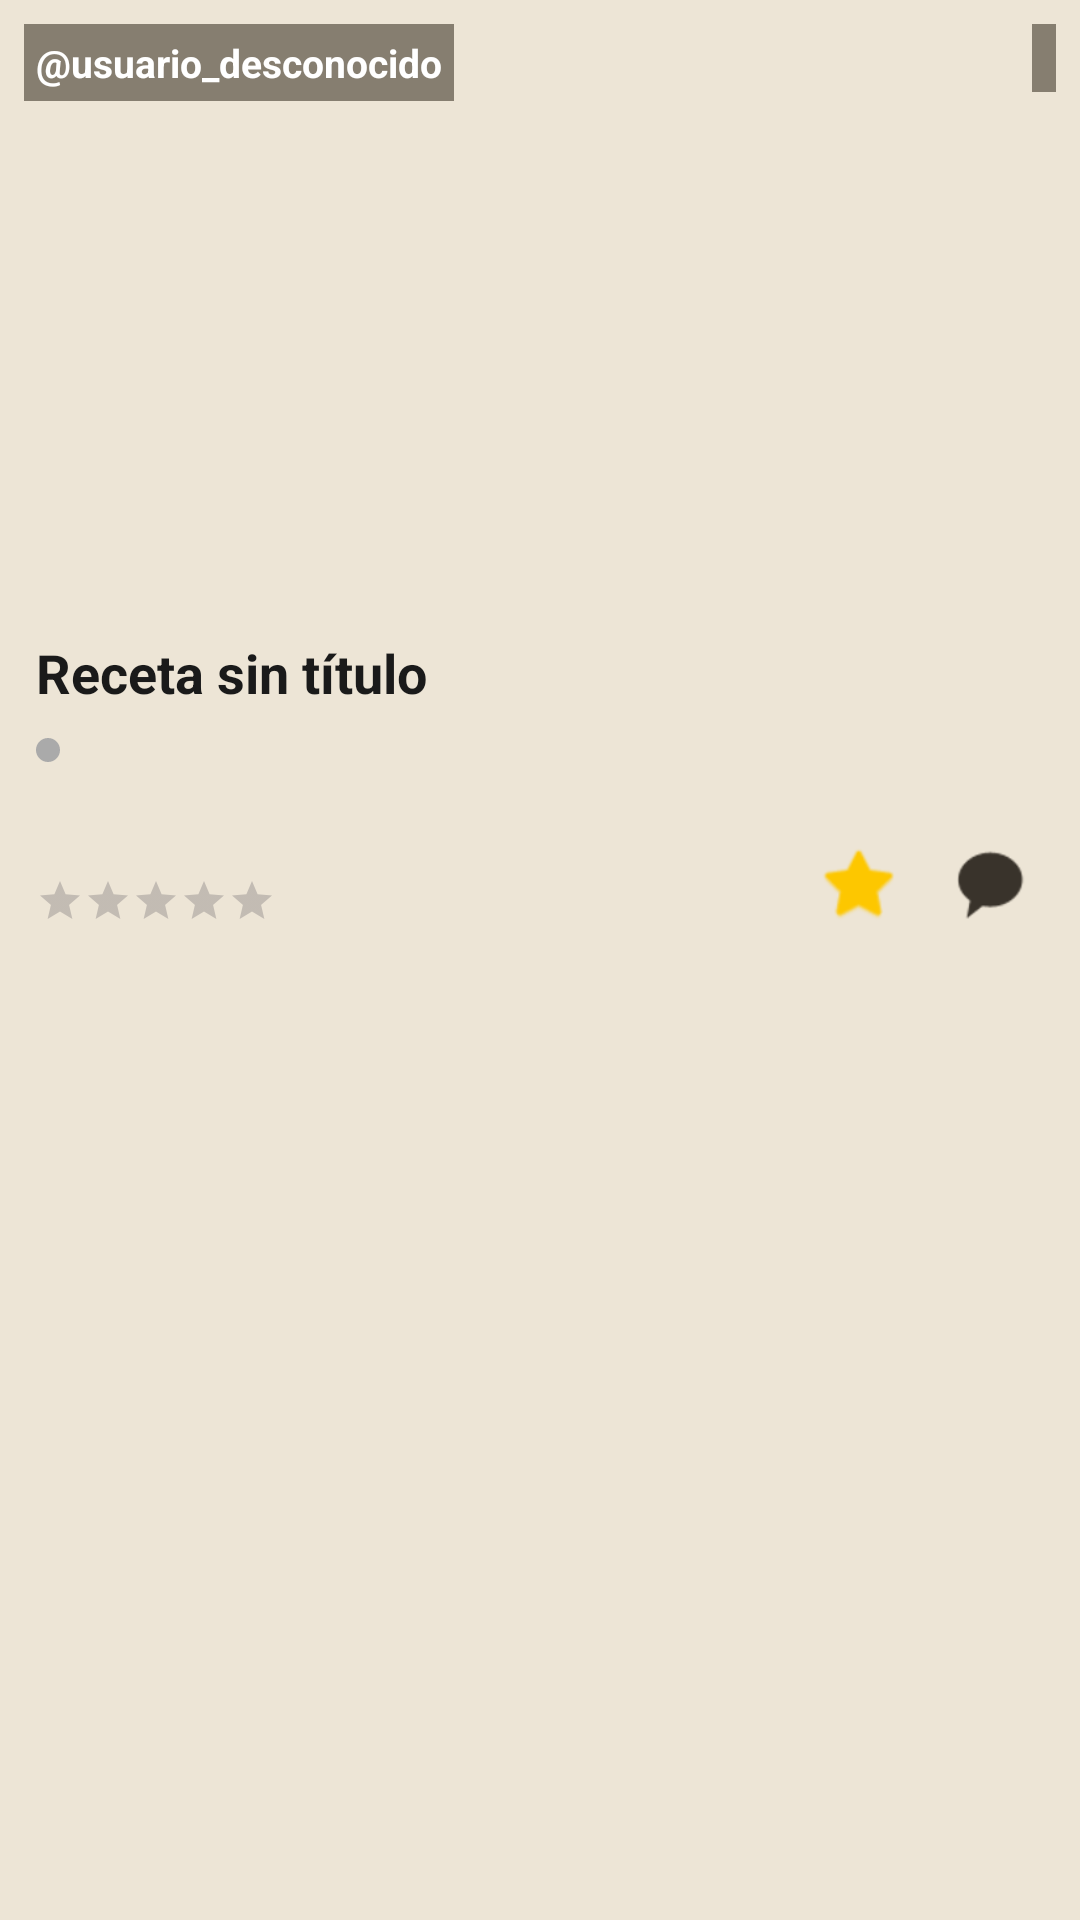

Icon click points for this 1080×1920 phone screenshot, format (x=x, y=y):
Comentar: (x=990, y=884)
